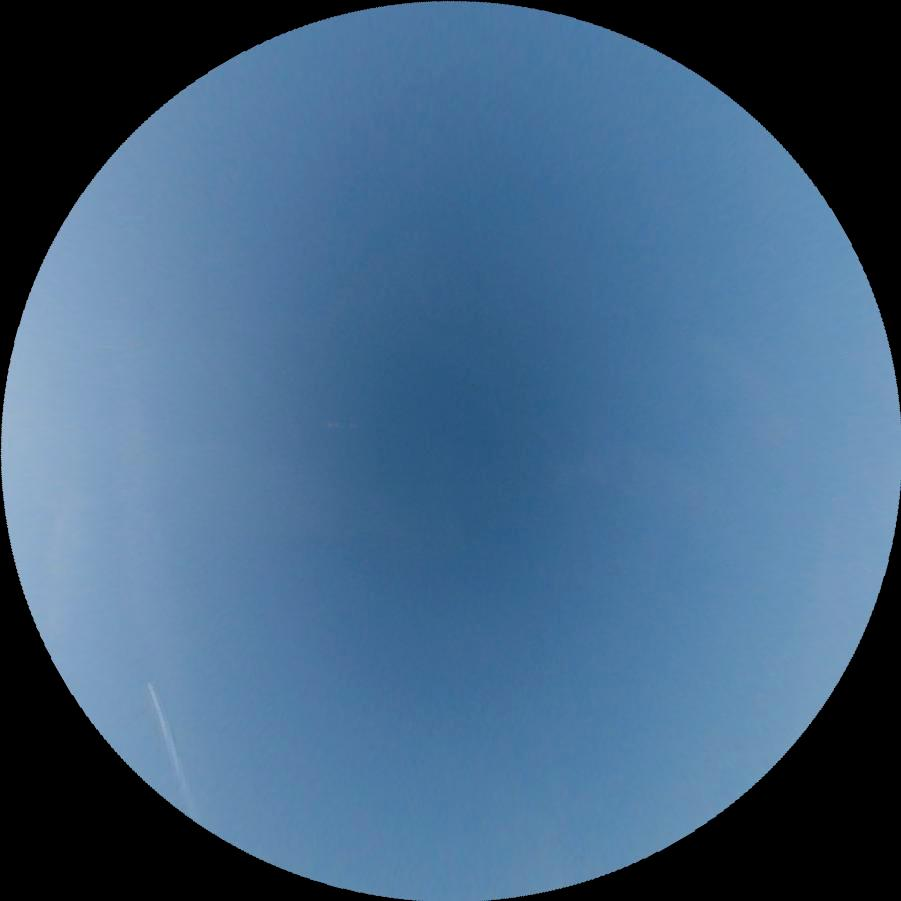contrail young: (143, 680, 199, 827)
